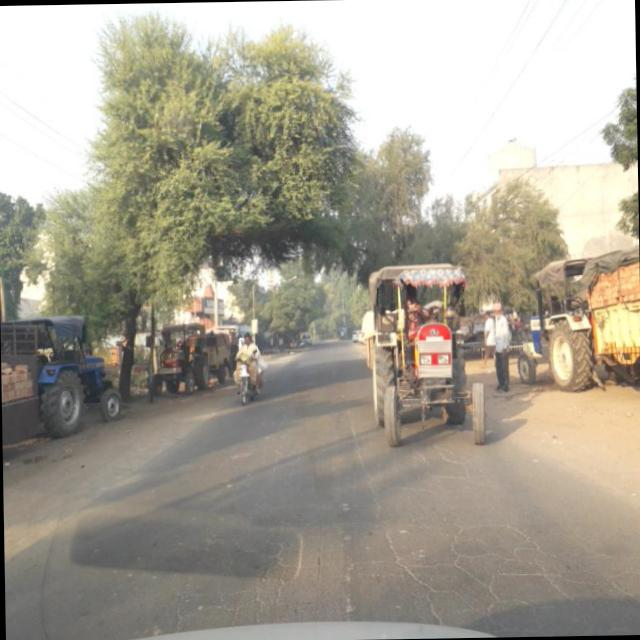crack: (370, 459, 628, 616), (168, 529, 358, 618)
